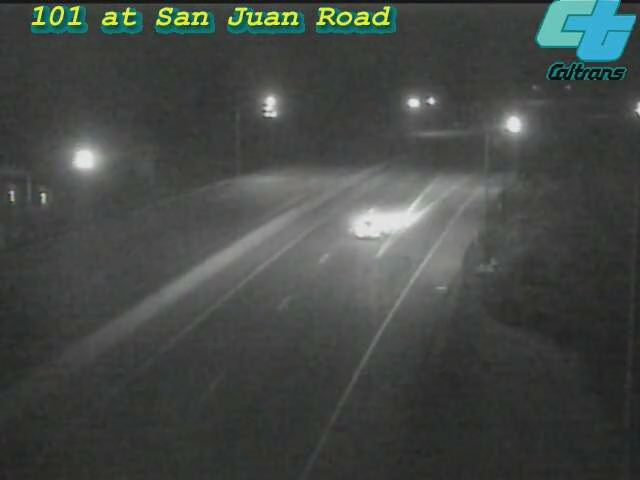vehicle: (326, 188, 406, 268), (484, 99, 534, 149), (613, 84, 640, 134)
